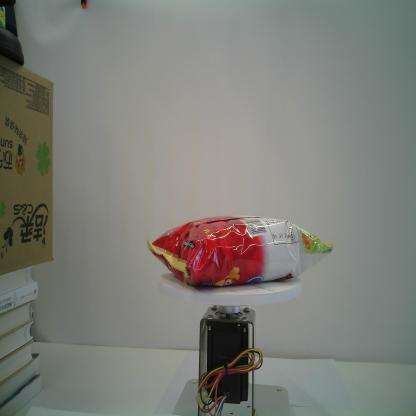Puffed Food: (145, 214, 334, 288)
